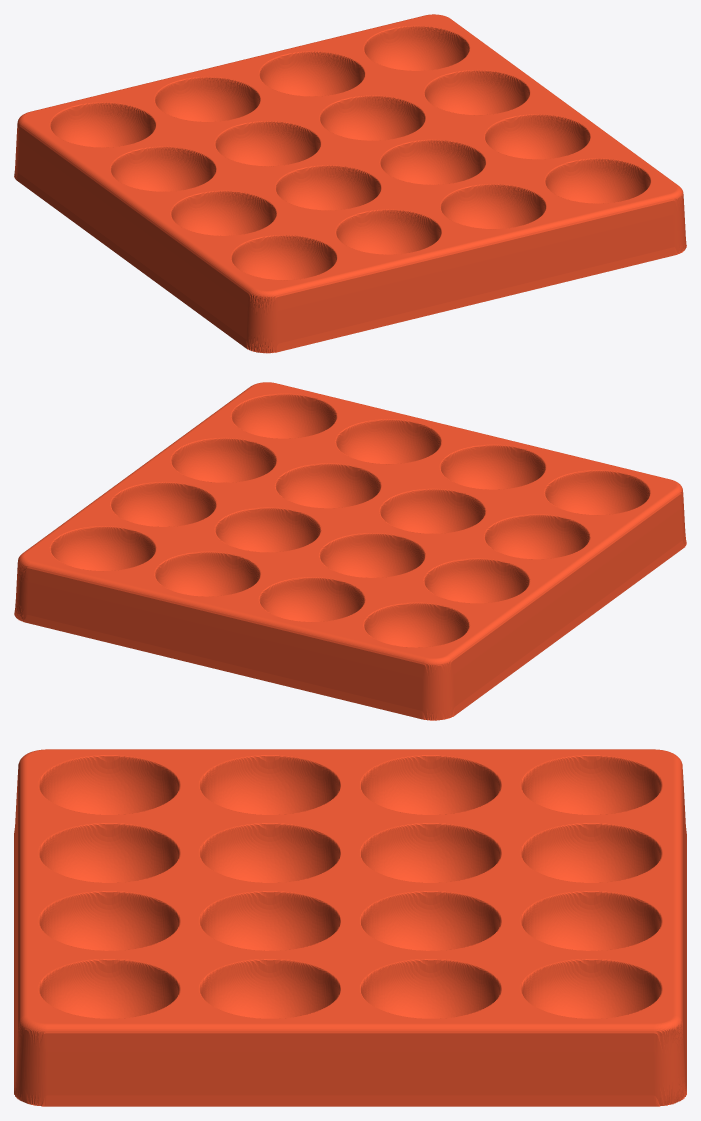
File: mold.glb
The picture shows the model from 3 angles, top to bottom: view 1: azimuth 30°, elevation 25°; view 2: azimuth 150°, elevation 25°; view 3: azimuth 270°, elevation 25°; orthographic projection. The views are drawn at different scales.
Parts seen in each view (by area): view 1: geometry_0; view 2: geometry_0; view 3: geometry_0.
Part boxes in pixels (box(x1,y1,x2,y2)): geometry_0: box(14, 14, 686, 353); geometry_0: box(14, 382, 686, 720); geometry_0: box(14, 749, 686, 1106).
Bounding box in the file's own units: 0.1856 × 0.0235 × 0.1856.
